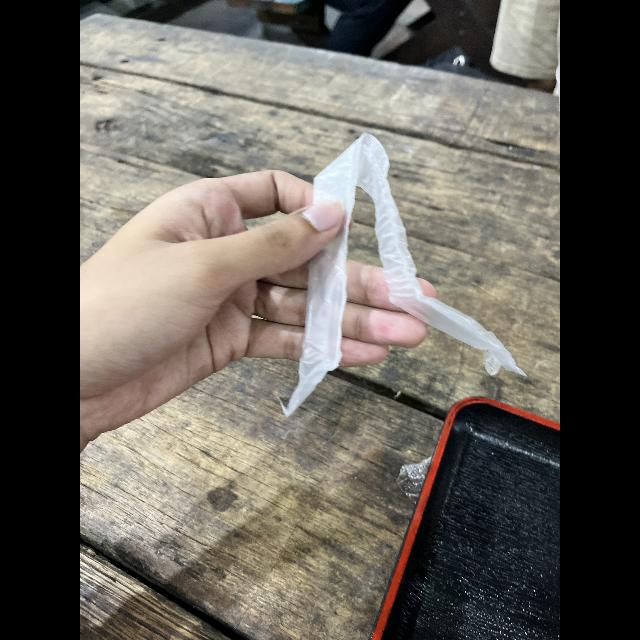scrap_plastic: (272, 127, 530, 415)
